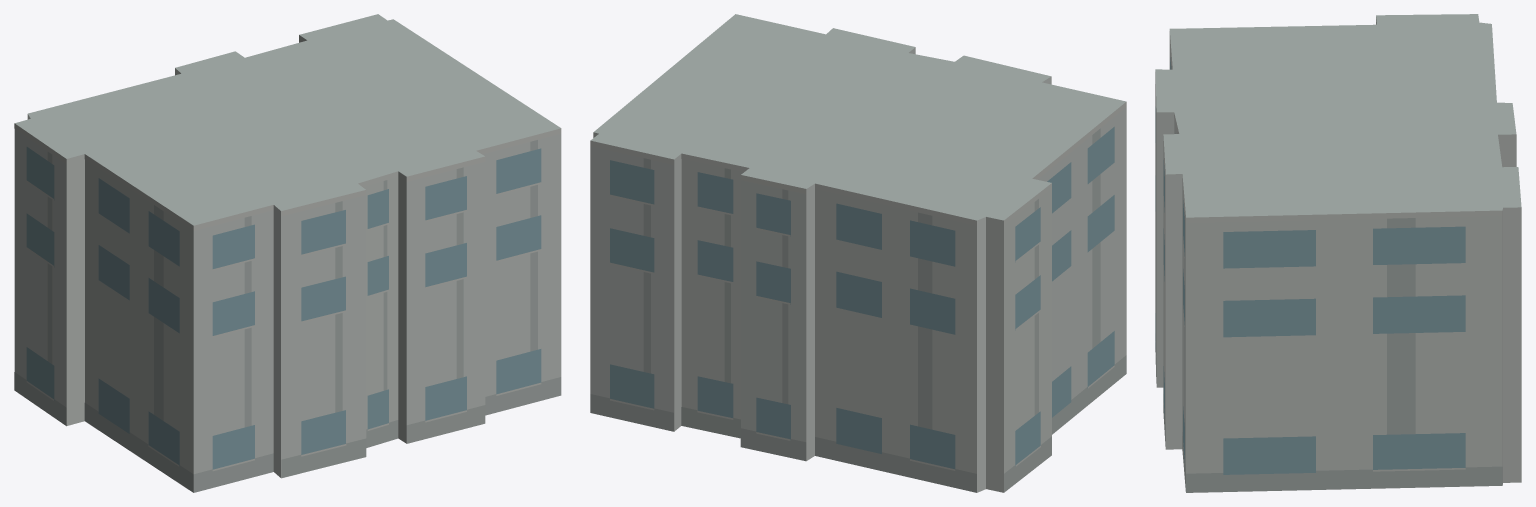
The model's file is survey-upis-32558174.glb.
3 renders of one model, left to right at view 1: azimuth 30°, elevation 25°; view 2: azimuth 150°, elevation 25°; view 3: azimuth 270°, elevation 25°, orthographic. The views are drawn at different scales.
Parts seen in each view (by area): view 1: survey-upis-32558174.tmp; view 2: survey-upis-32558174.tmp; view 3: survey-upis-32558174.tmp.
Boxes of the visible parts, bbox=[...] form: survey-upis-32558174.tmp: bbox=[14, 14, 561, 492]; survey-upis-32558174.tmp: bbox=[590, 14, 1126, 492]; survey-upis-32558174.tmp: bbox=[1155, 14, 1521, 492].
Bounding box in the file's own units: 19.37 × 12.2 × 14.72.
